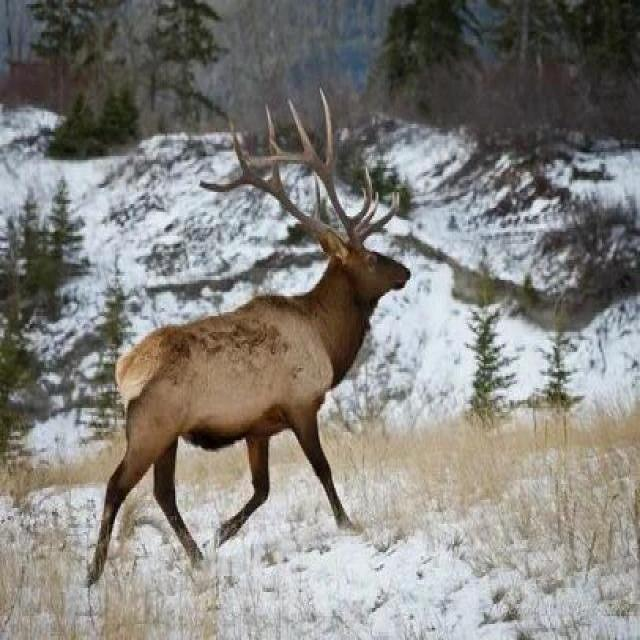deer: (78, 166, 476, 554)
